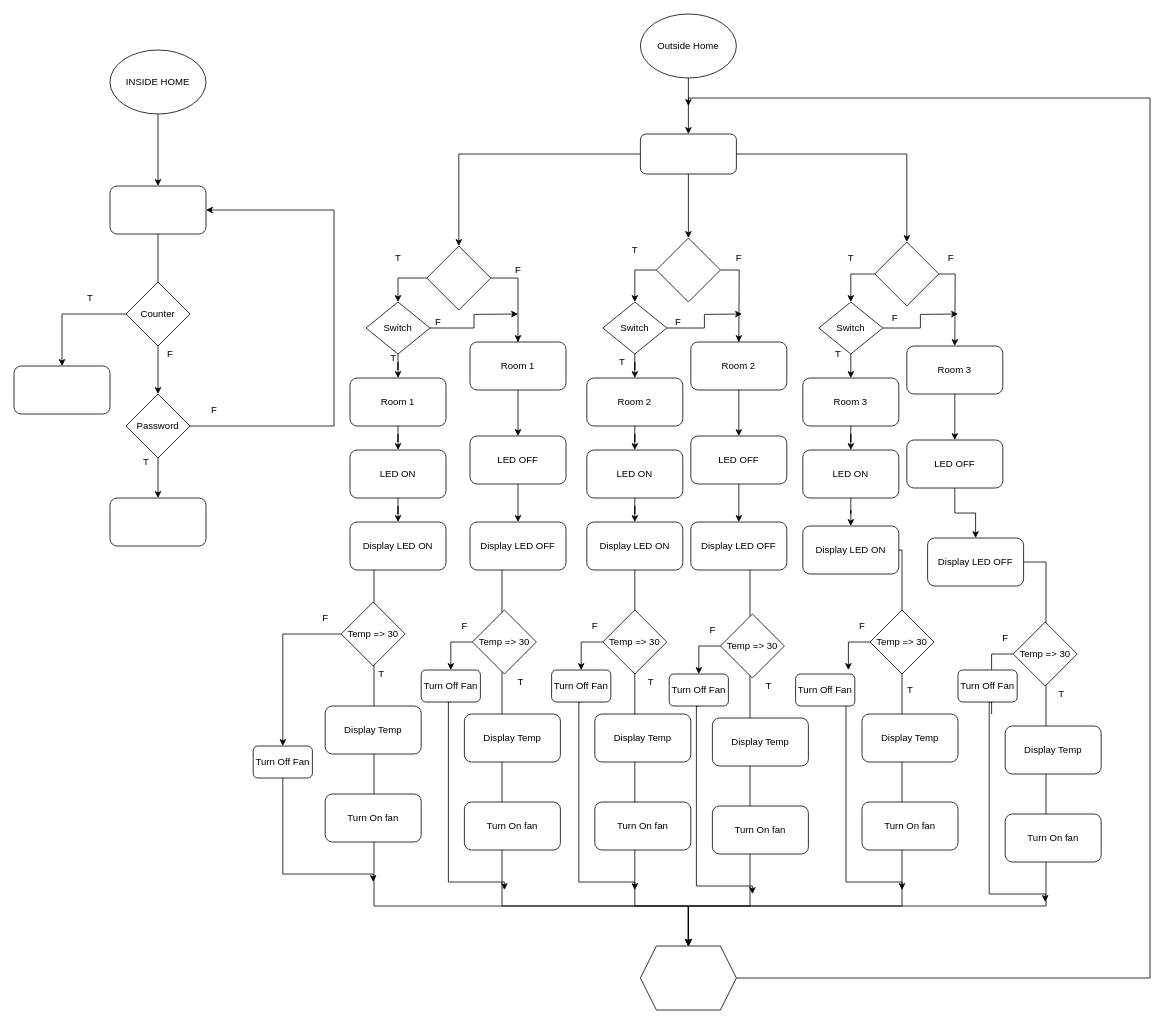
This 1170x1024 diagram has some shape labels left out. The shapes that lost their labels are listed below. From the top down, each one's centre as x and y in pixels, then its label:
At point 688,153: "Master".
At point 157,209: "Enter Password".
At point 458,277: "Switch 1".
At point 688,269: "Switch 2".
At point 906,273: "Switch 3".
At point 61,389: "System Locked".
At point 157,521: "Welcome".
At point 688,977: "LOOP".
